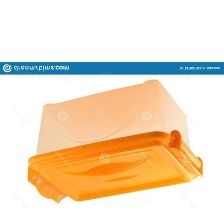plastic_box: (17, 74, 208, 211)
